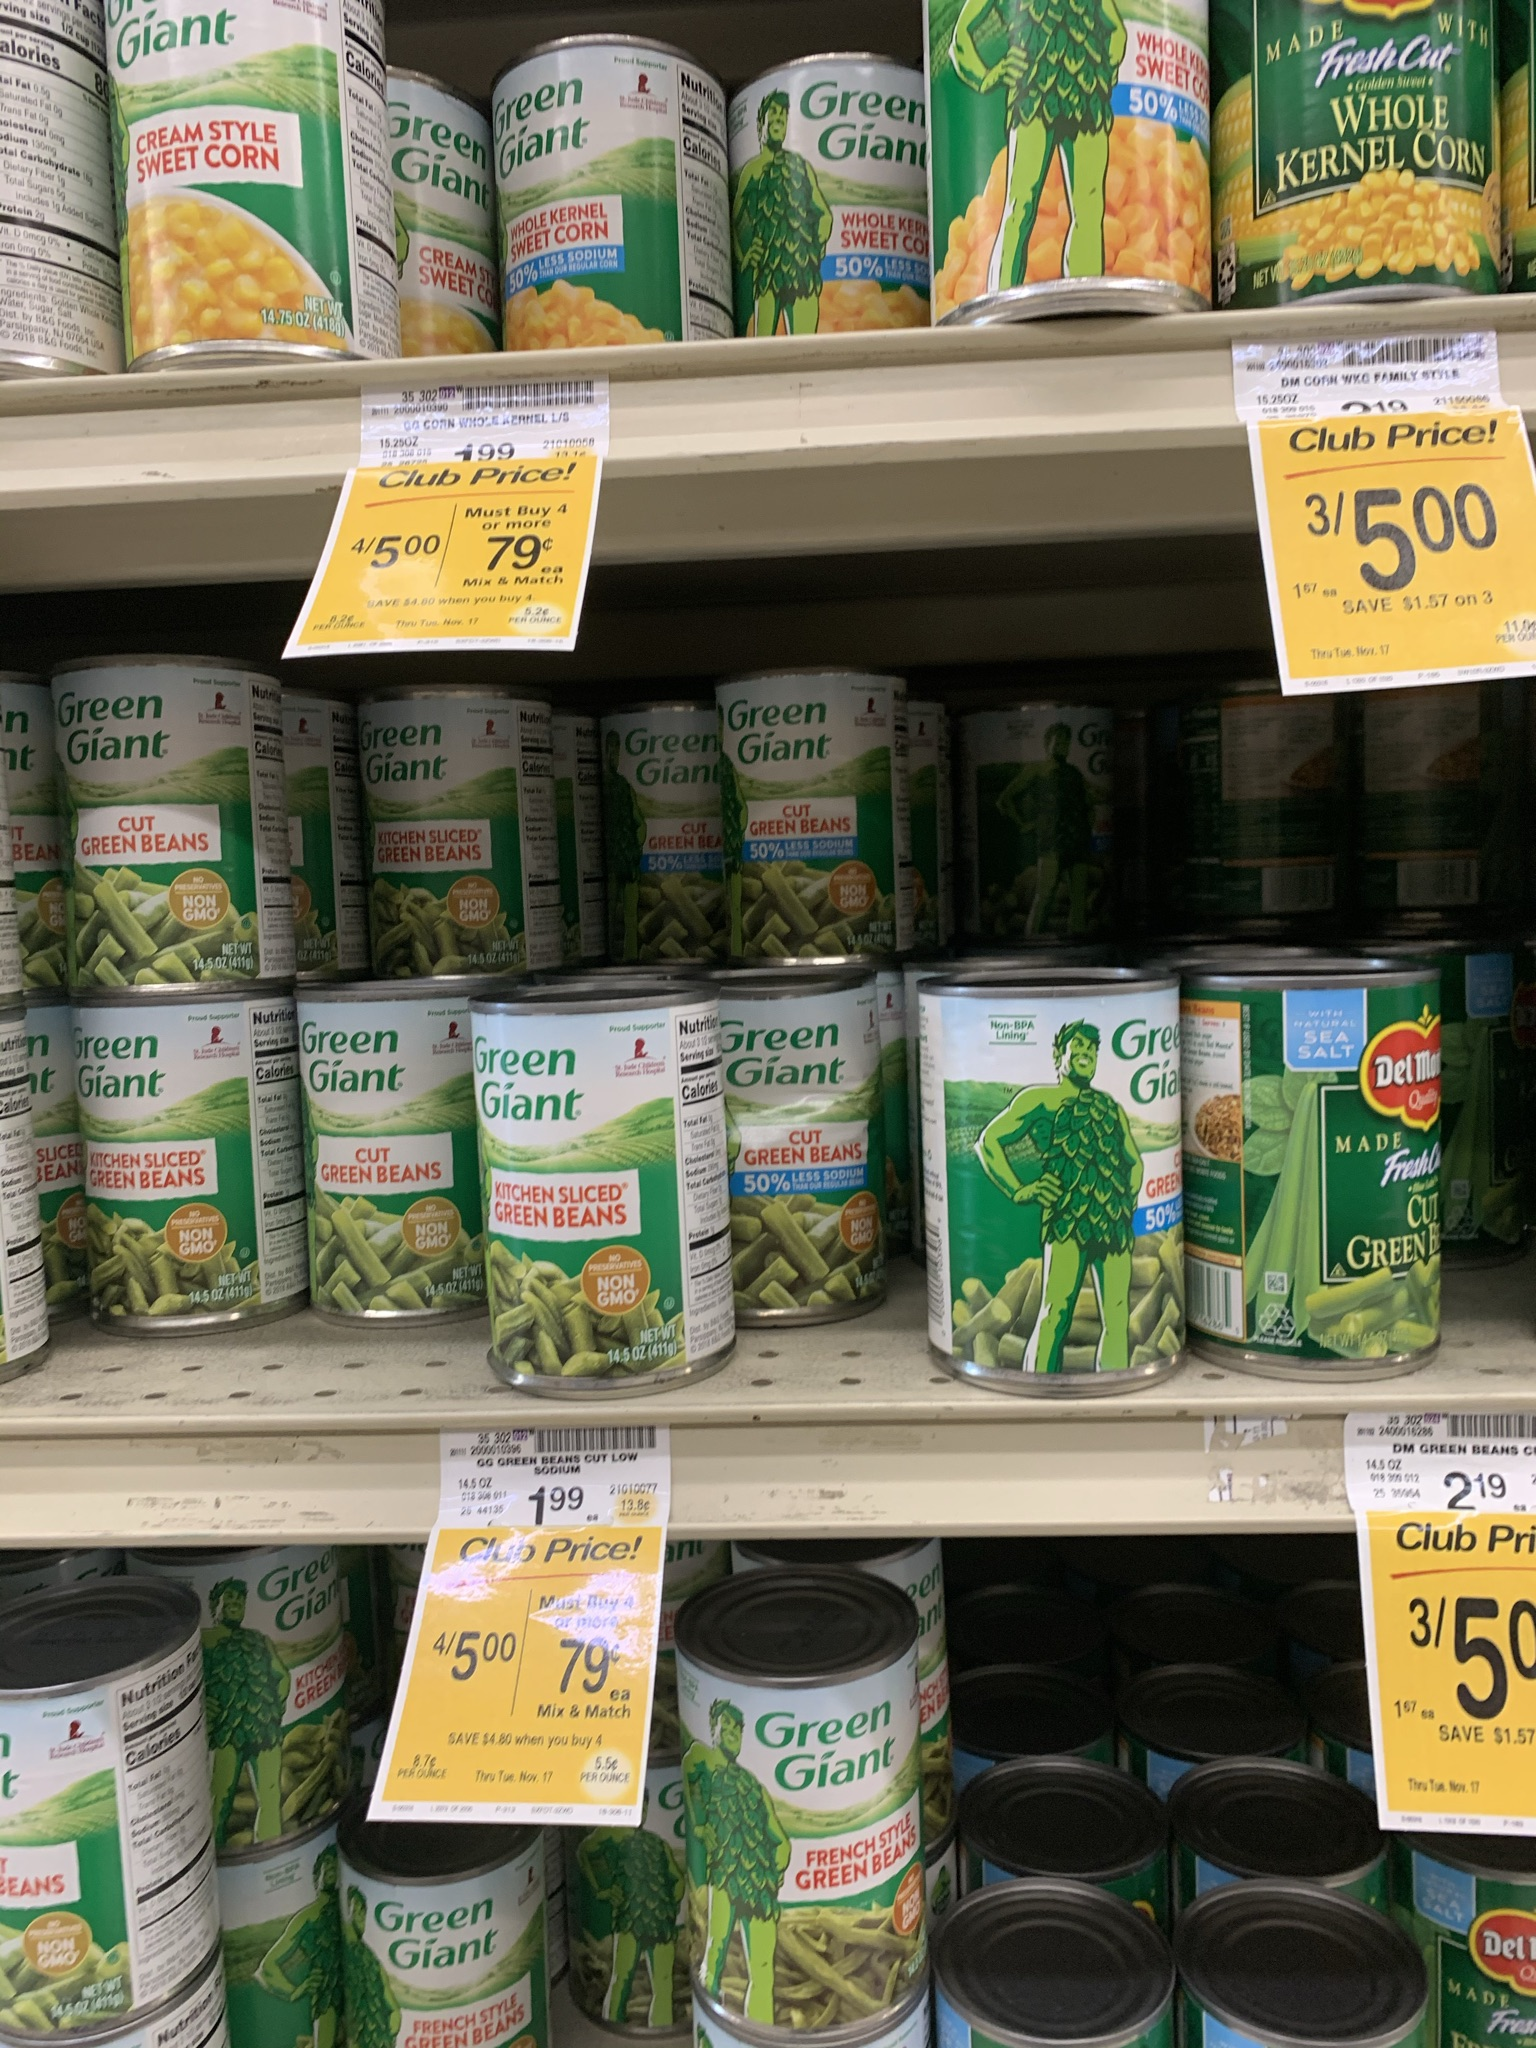can: (105, 2, 403, 364), (920, 995, 1187, 1397), (463, 995, 726, 1400), (1192, 977, 1439, 1379), (678, 1651, 926, 2048), (53, 650, 295, 1001), (73, 1001, 302, 1335), (489, 34, 726, 343), (2, 1667, 182, 2019), (358, 681, 560, 979), (741, 692, 883, 948), (340, 1861, 518, 2042), (219, 1561, 337, 1827), (973, 714, 1105, 932)
